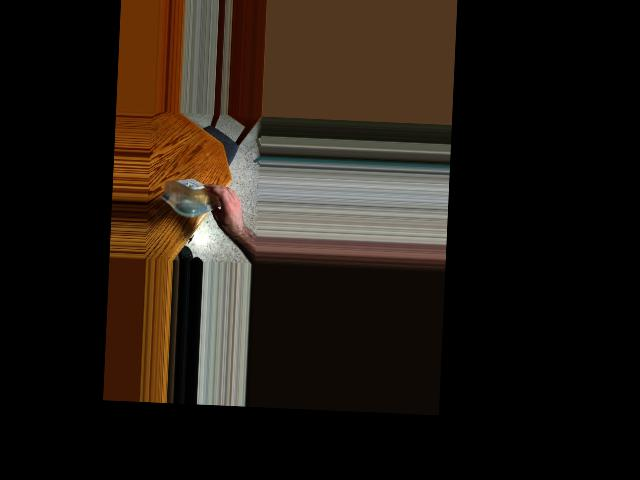cheese: (160, 176, 233, 216)
